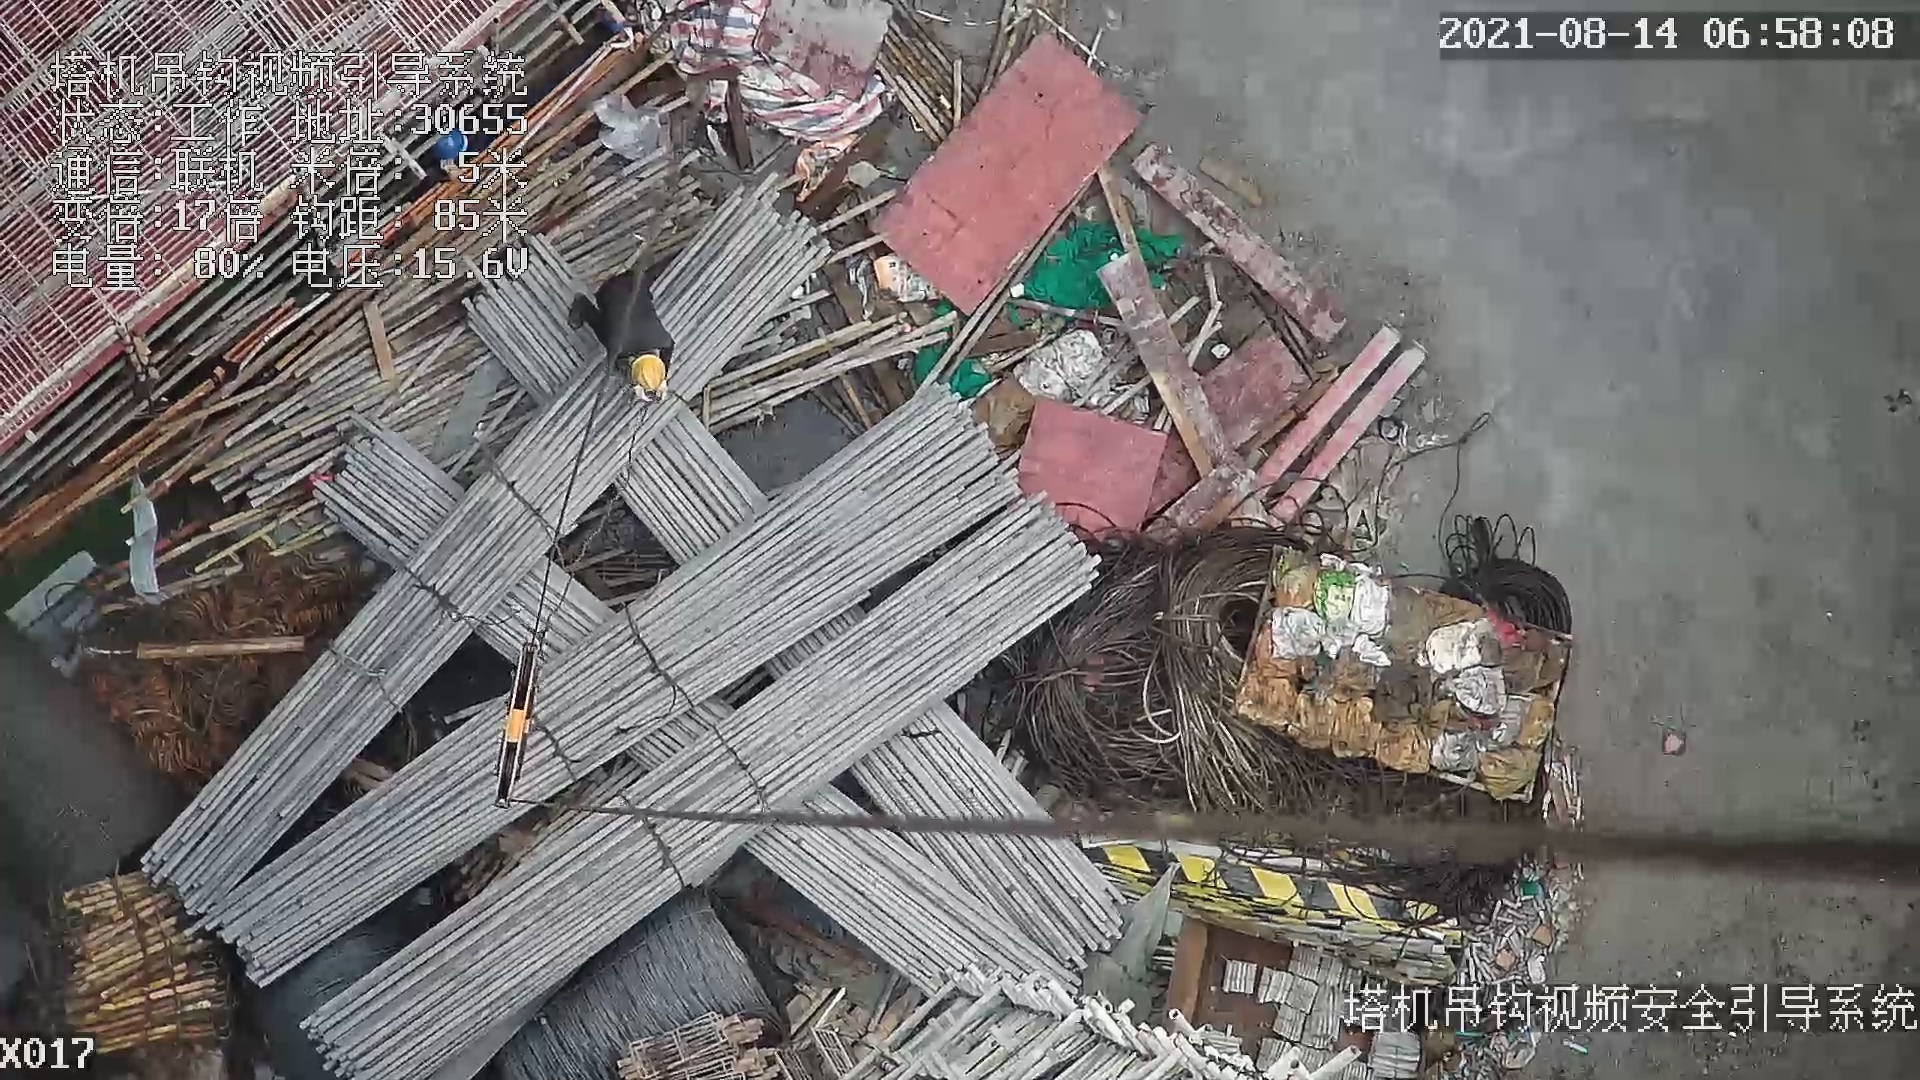helmet: (630, 354, 666, 390)
hook: (487, 636, 542, 809)
person: (572, 274, 704, 423)
rebar: (140, 181, 823, 916), (194, 384, 1017, 979), (295, 501, 1097, 1080), (736, 781, 1083, 995), (850, 700, 1123, 966)
scaffold: (58, 872, 225, 1049)
